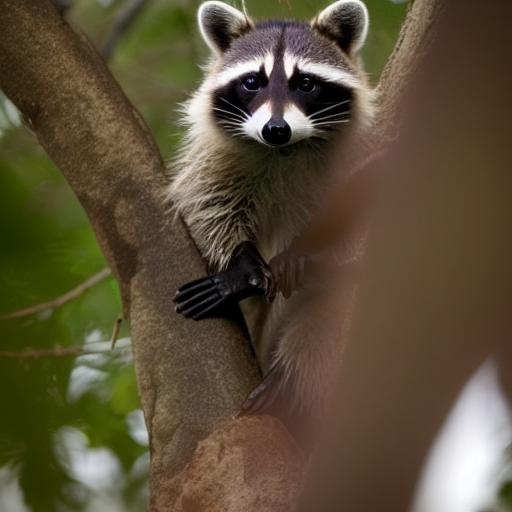raccoon: (159, 0, 380, 401)
